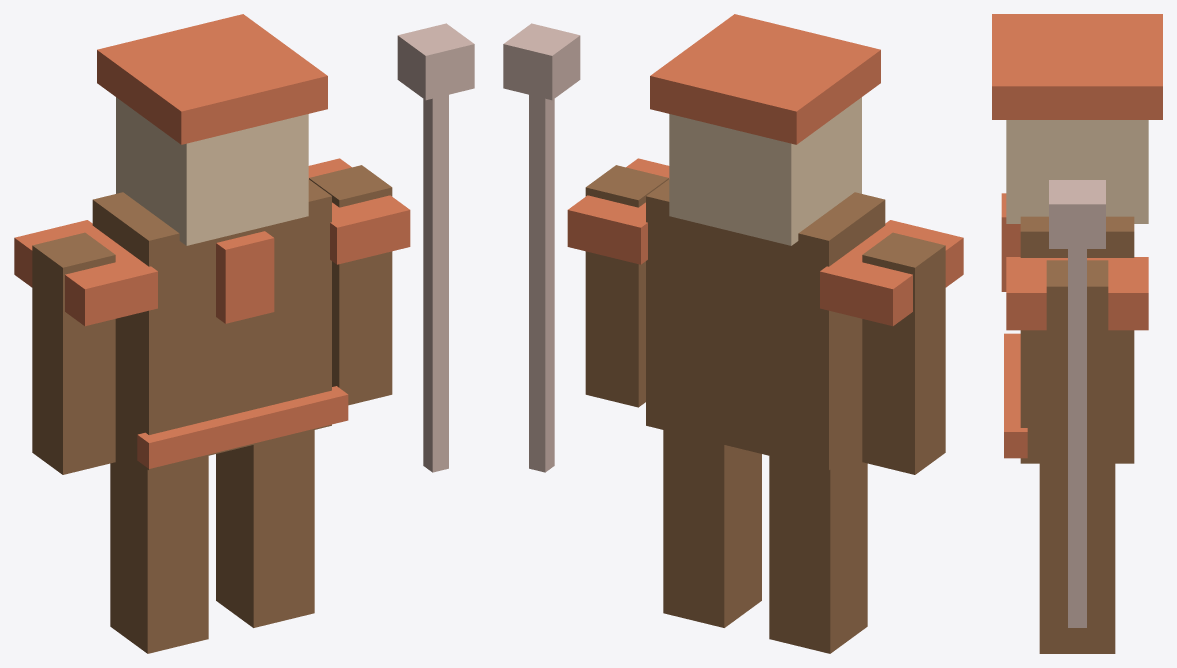
File: 15_ilyra_dubwater_keeper_from_verse.glb
The picture shows the model from 3 angles, left to right: view 1: azimuth 30°, elevation 25°; view 2: azimuth 150°, elevation 25°; view 3: azimuth 270°, elevation 25°; orthographic projection.
Visible parts, largest first — view 1: Ilyra Dubwater, Keeper from Verse; view 2: Ilyra Dubwater, Keeper from Verse; view 3: Ilyra Dubwater, Keeper from Verse.
Boxes of the visible parts, x1,y1,x2,y2 form: Ilyra Dubwater, Keeper from Verse: (14,14,474,653); Ilyra Dubwater, Keeper from Verse: (503,14,963,653); Ilyra Dubwater, Keeper from Verse: (992,14,1162,653).
Size of the model in its own units: 1.1 by 1.42 by 0.3919.
